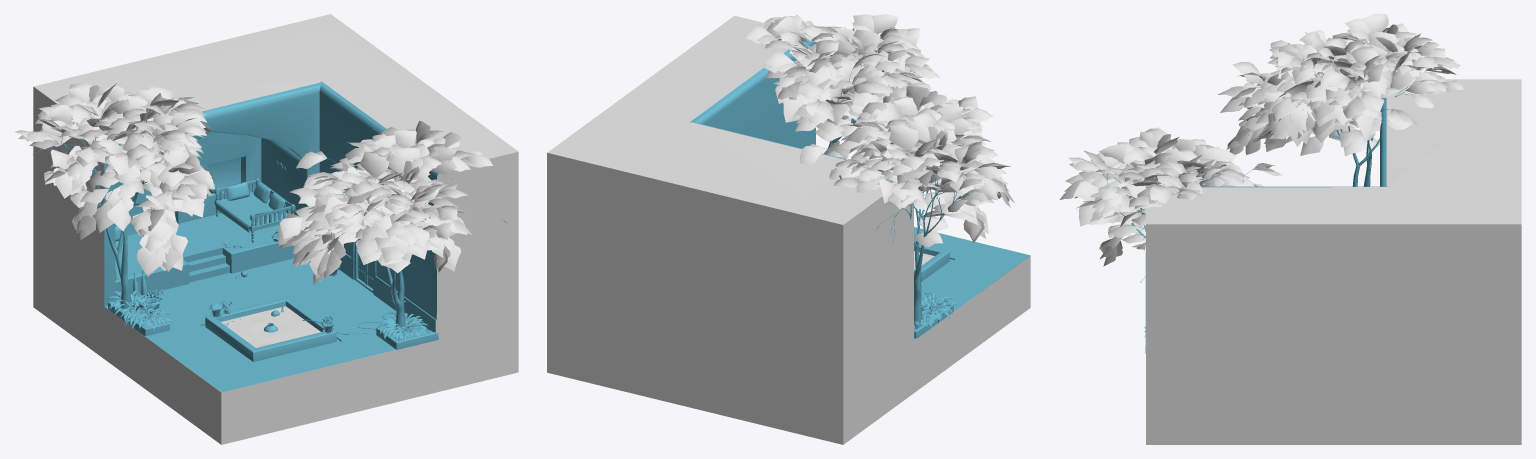
The model's file is PersianGarden_Day.fbx.
The picture shows the model from 3 angles, left to right: view 1: azimuth 30°, elevation 25°; view 2: azimuth 150°, elevation 25°; view 3: azimuth 270°, elevation 25°; orthographic projection.
Parts seen in each view (by area): view 1: Walls.001, polySurface1.003, object0.002, object0.001, Plane.003; view 2: Walls.001, polySurface1.003, object0.001, object0.002; view 3: Walls.001, polySurface1.003, object0.001, object0.002.
Part boxes in pixels (x1,y1,x2,y2): Walls.001: (33,14,518,444); polySurface1.003: (15,82,492,284); object0.002: (104,81,438,332); object0.001: (32,107,506,392); Plane.003: (221,306,320,347); Walls.001: (547,15,1030,444); polySurface1.003: (745,14,1014,247); object0.001: (795,31,1030,340); object0.002: (690,37,867,165); Walls.001: (1146,79,1521,444); polySurface1.003: (1059,14,1463,266); object0.001: (1094,48,1436,353); object0.002: (1145,98,1387,187).
Size of the model in its own units: 1801 by 1269 by 1919.
